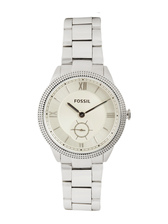watch: (37, 14, 136, 213)
